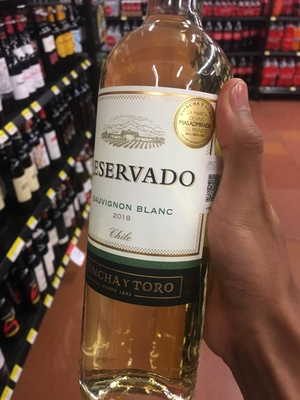reservado sauvignon blanc: (75, 8, 223, 400)
